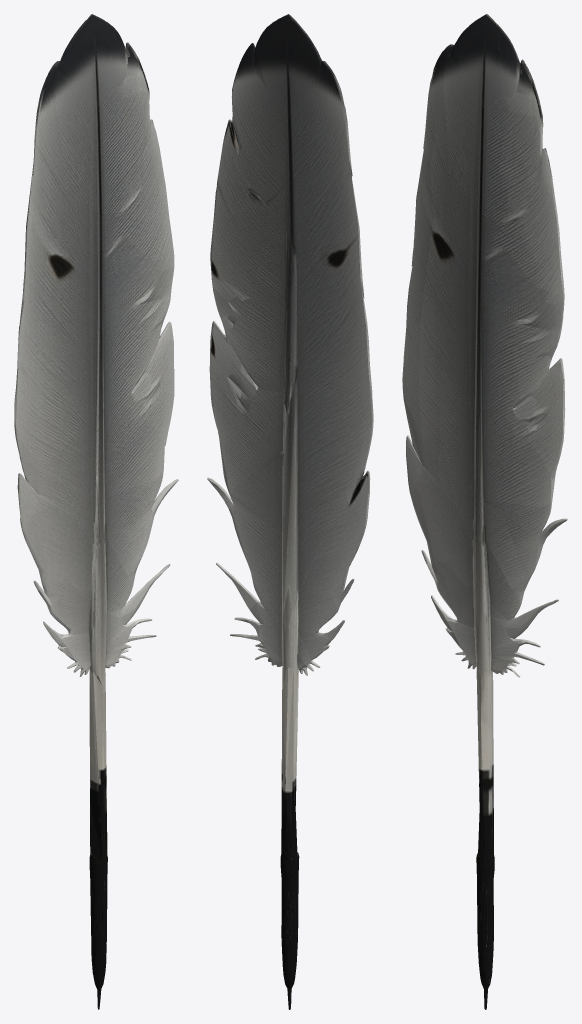
The model's file is pen_v1.glb.
The picture shows the model from 3 angles, left to right: view 1: azimuth 30°, elevation 25°; view 2: azimuth 150°, elevation 25°; view 3: azimuth 330°, elevation 25°; orthographic projection.
Bounding box in the file's own units: 0.3297 × 1.9 × 0.0353.
1 material, 1 textured.
